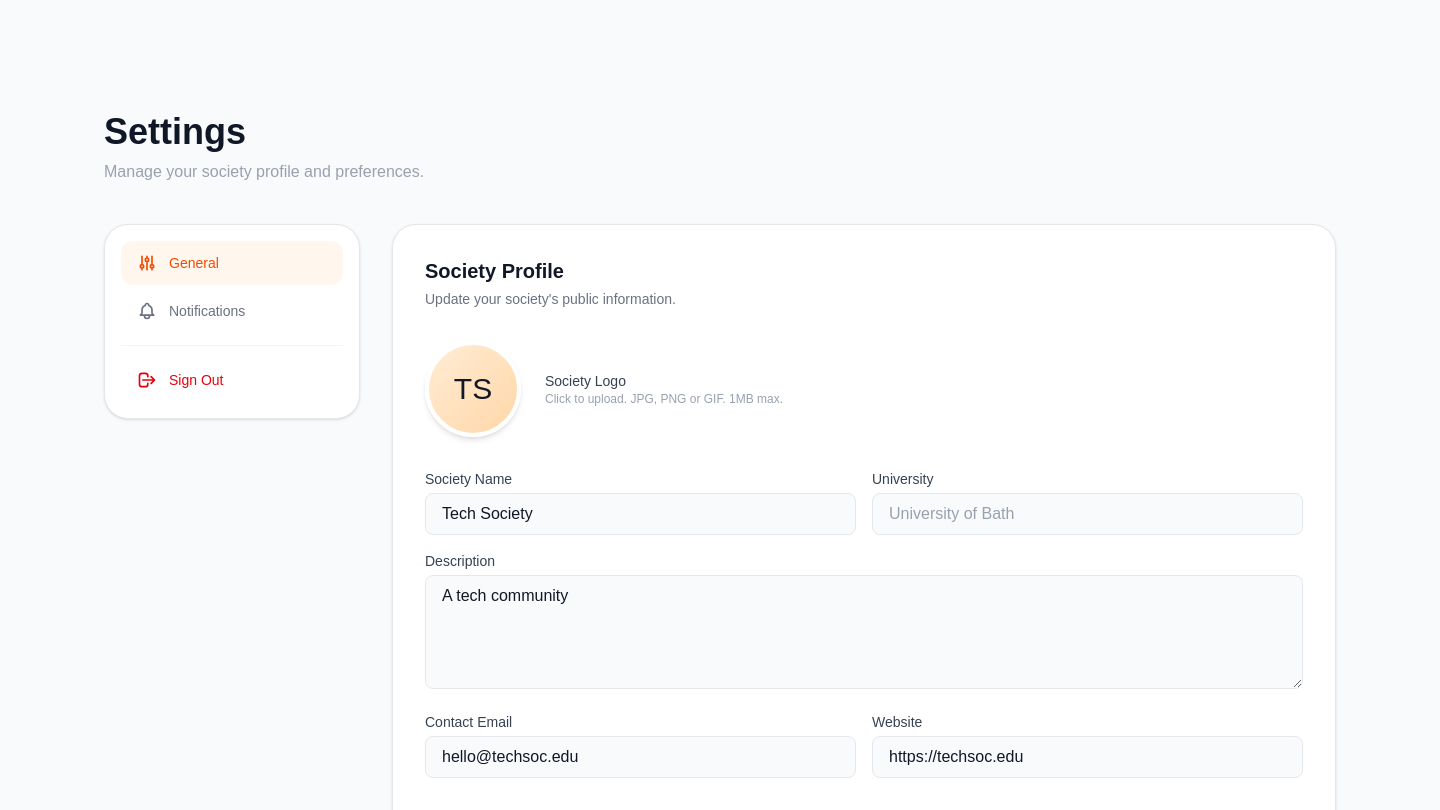
Settings Page › switches to Notifications tab
Click the button "Notifications". click: click(232, 311)
box: [121,289,343,333]
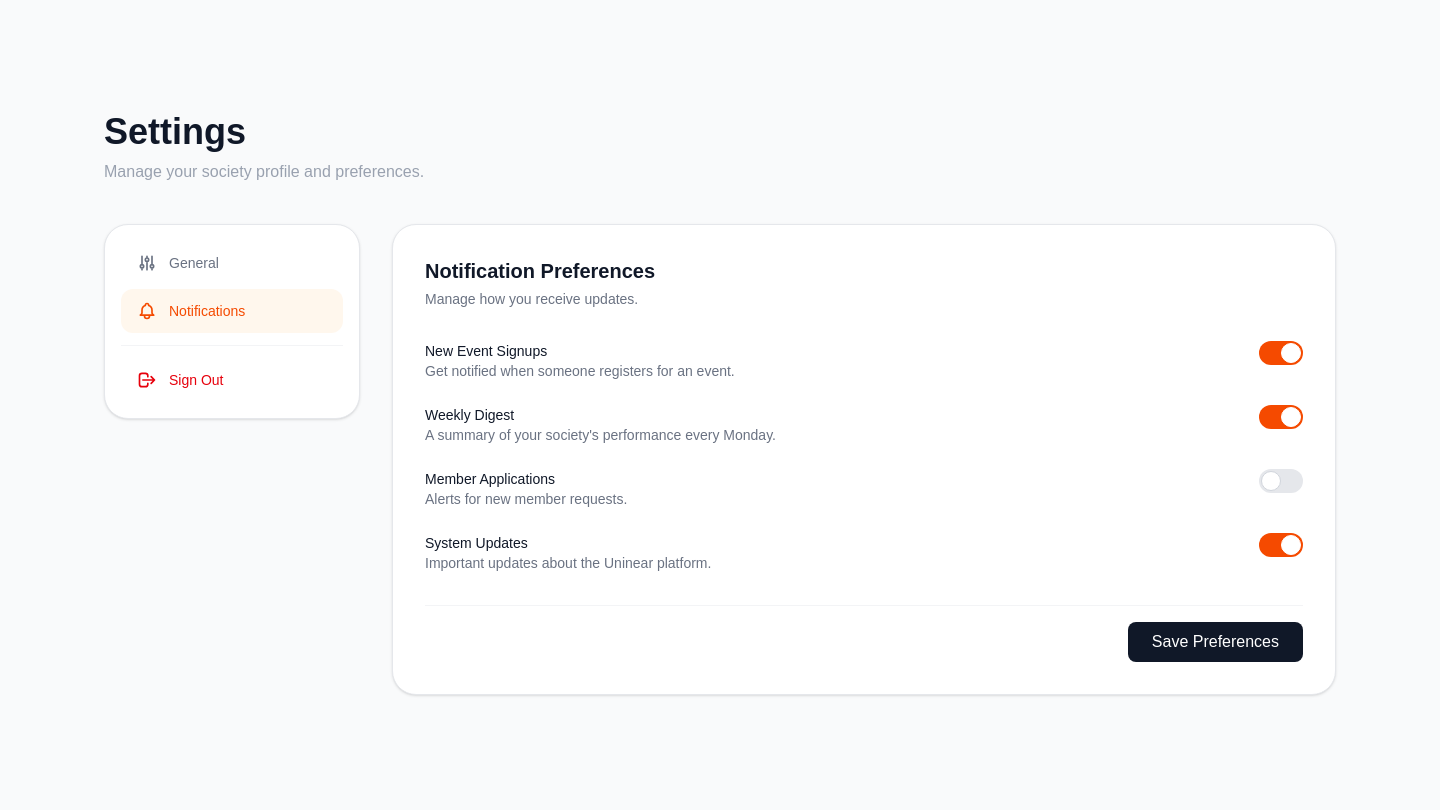
Expected: the heading "Notification Preferences" is shown, [425,260,655,282]
Expected: the heading "New Event Signups" is shown, [425,343,547,359]
